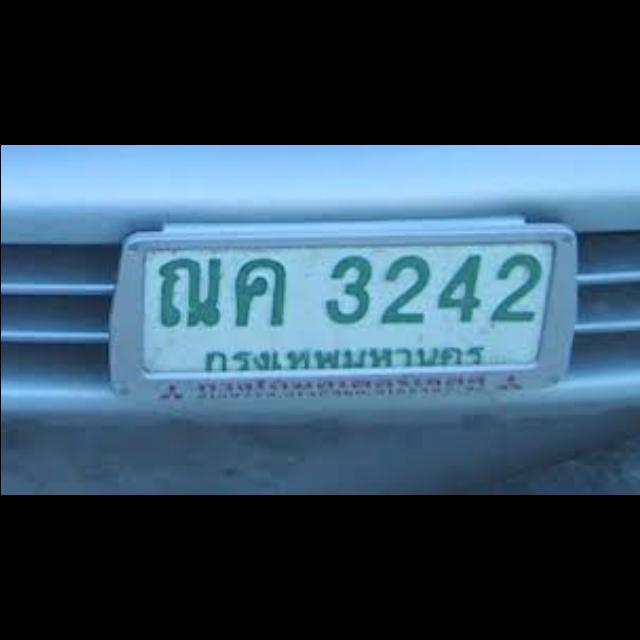licenseplate: (106, 231, 580, 395)
